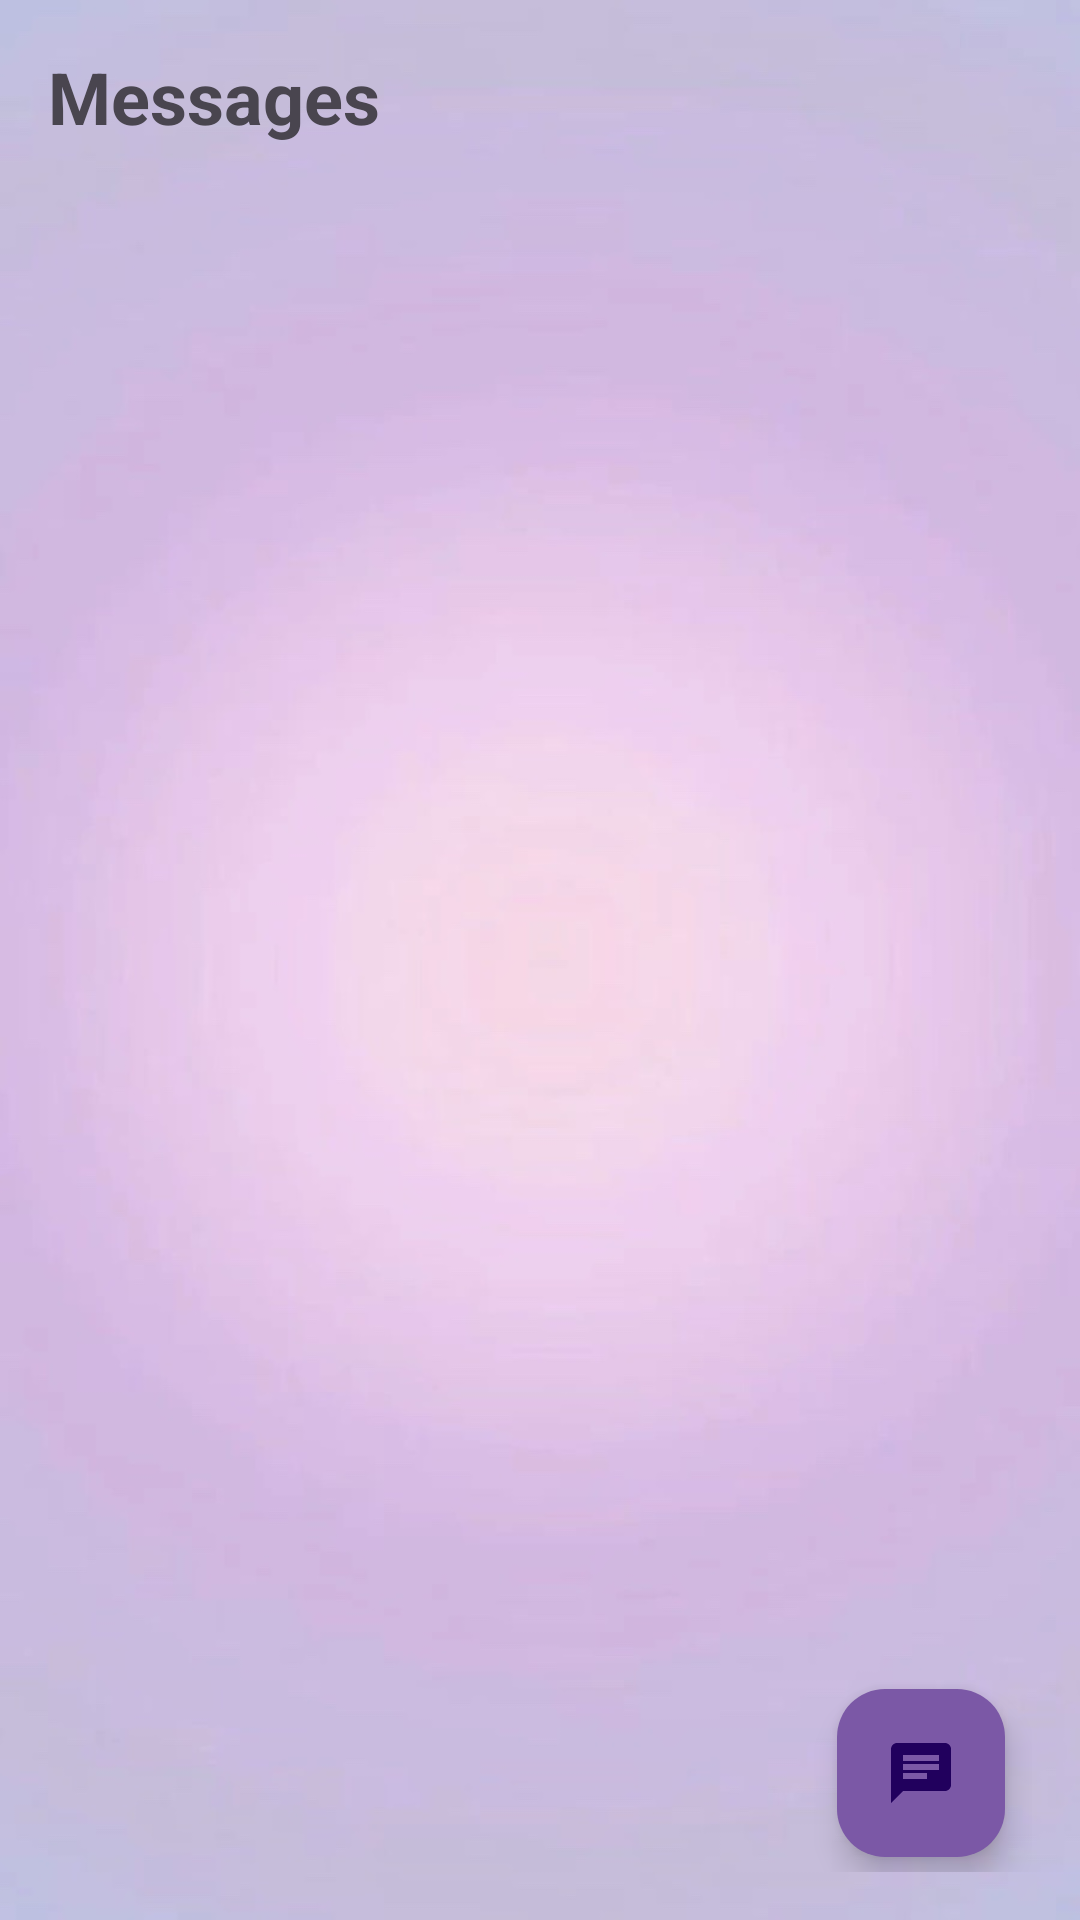

Where to tap for icons on this 1080w x 1920h app screen, as (x,y):
chat: (921,1773)
